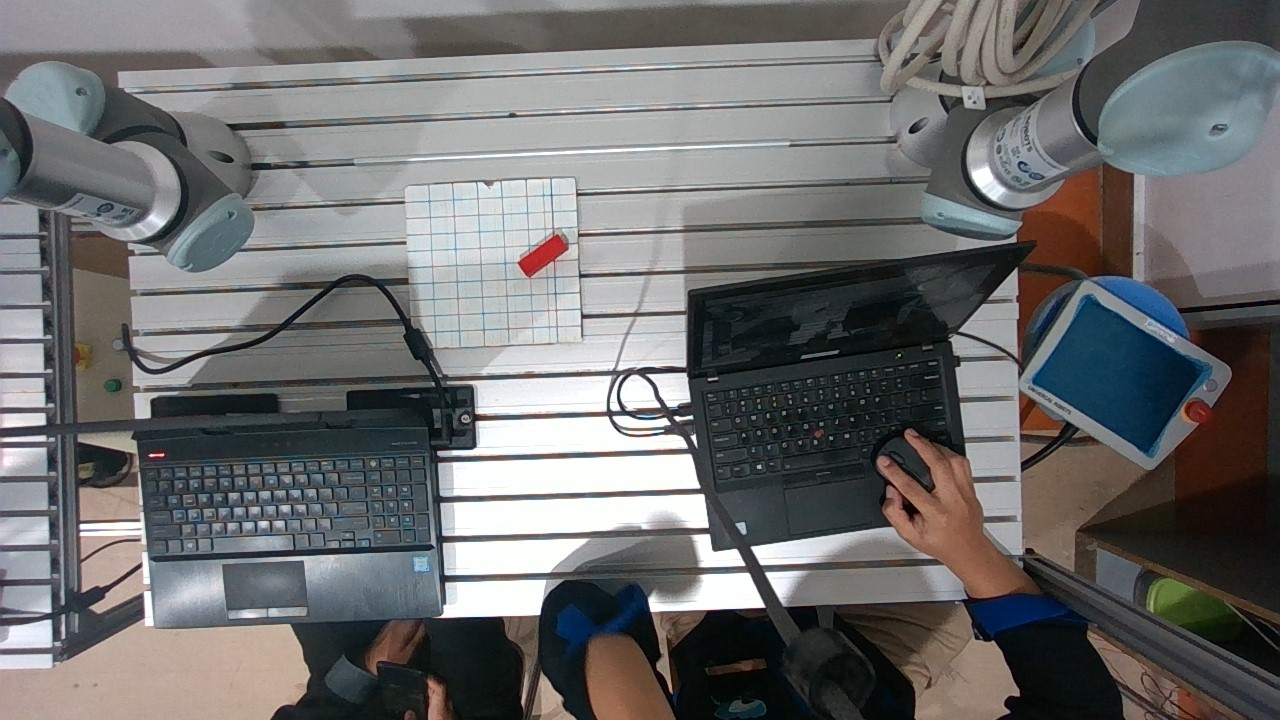box: (500, 220, 573, 286)
